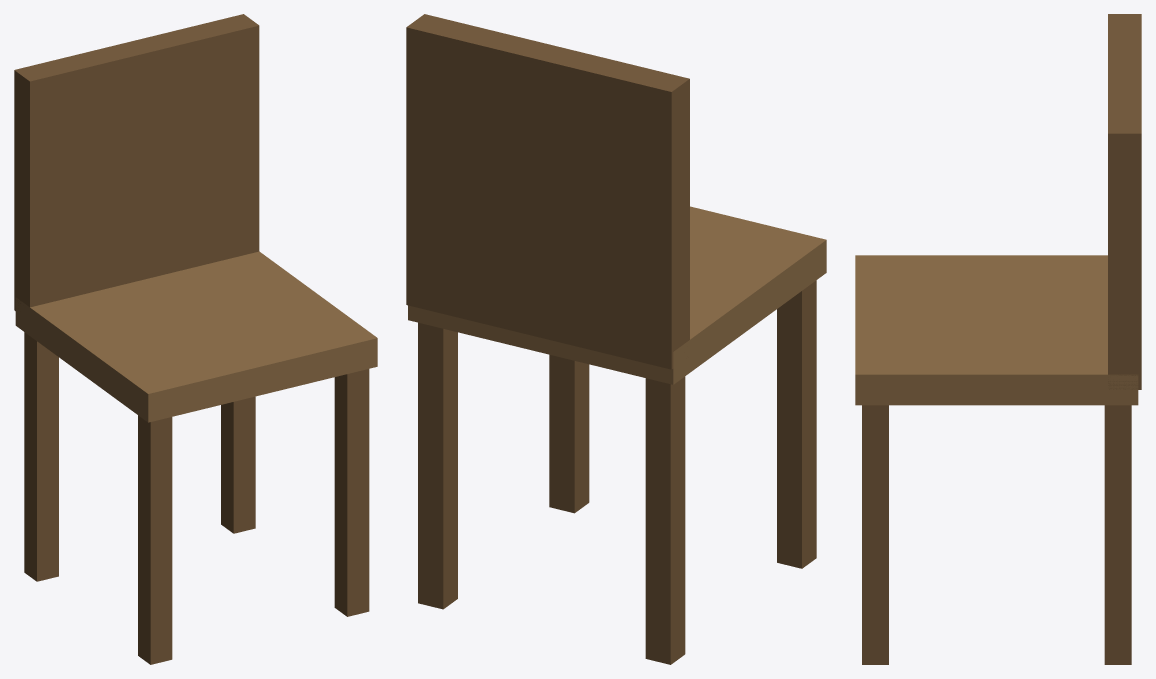
Rendered from chair.glb.
3 renders of one model, left to right at view 1: azimuth 30°, elevation 25°; view 2: azimuth 150°, elevation 25°; view 3: azimuth 270°, elevation 25°, orthographic. The views are drawn at different scales.
Visible parts, largest first — view 1: chair; view 2: chair; view 3: chair.
Part boxes in pixels (x1,y1,x2,y2): chair: (14,14,377,664); chair: (406,14,826,664); chair: (855,14,1141,664).
Size of the model in its own units: 0.42 by 0.875 by 0.425.
